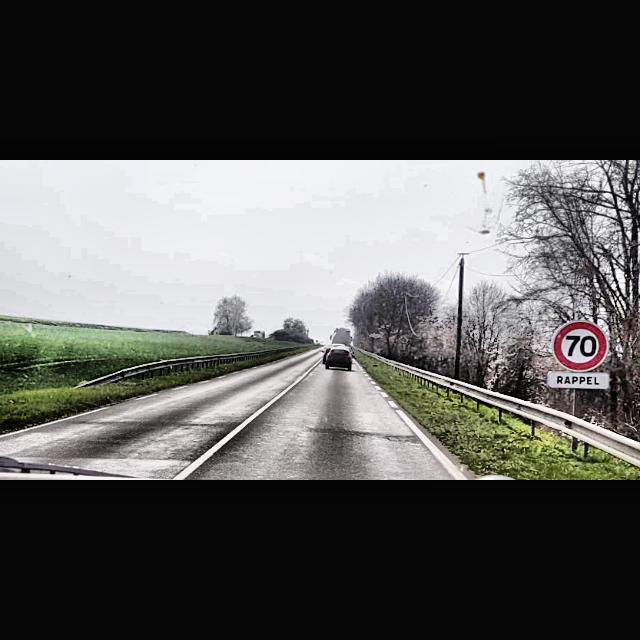speed_70: (554, 321, 606, 371)
